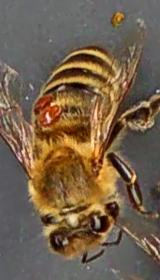varroa_mite: (24, 79, 58, 112), (35, 98, 66, 132)
